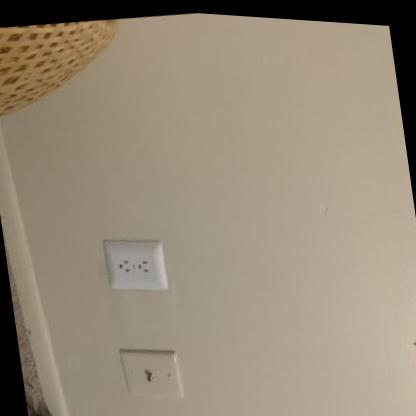OUTLET: (102, 231, 168, 300)
